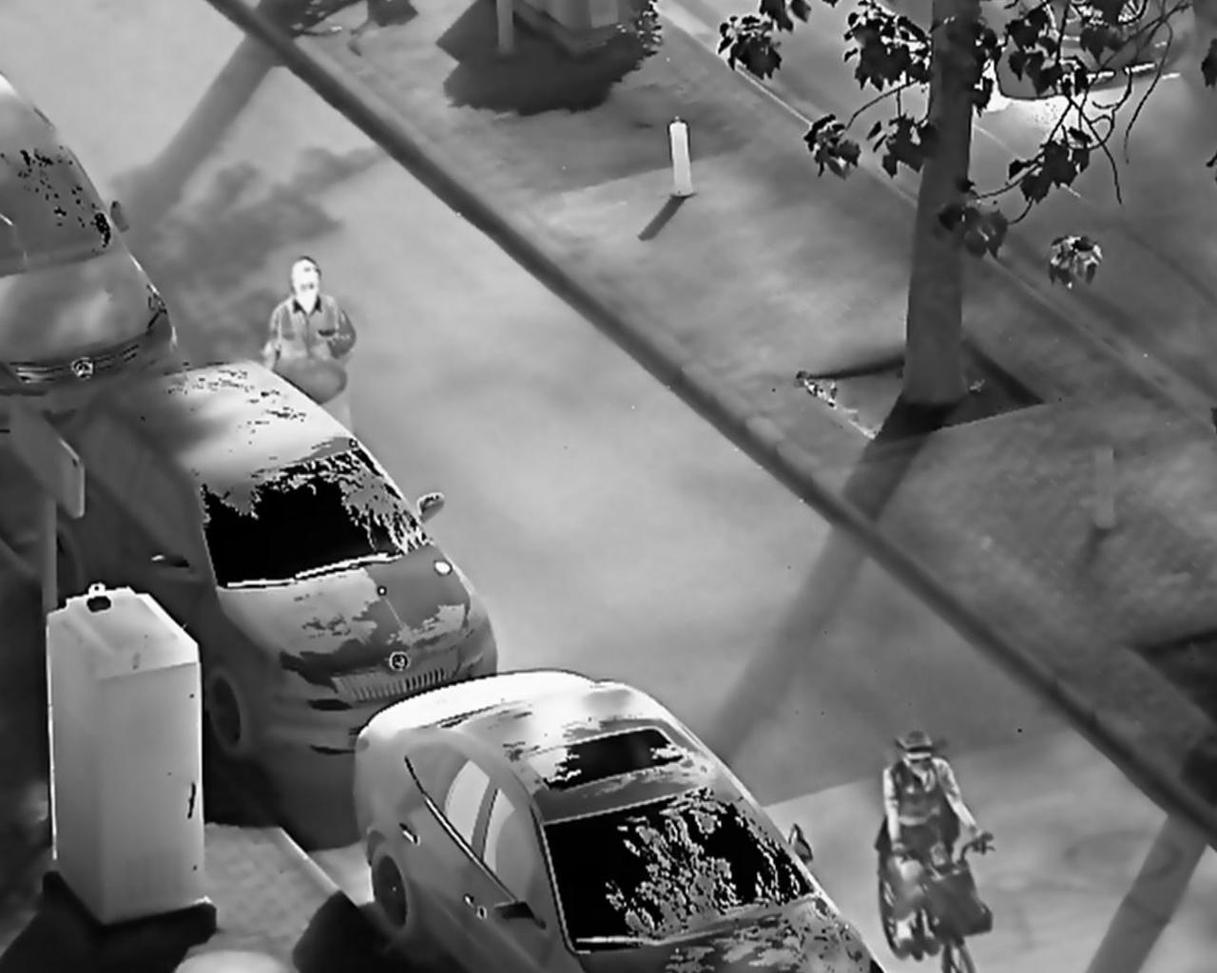person: (877, 729, 995, 962), (259, 257, 360, 432)
